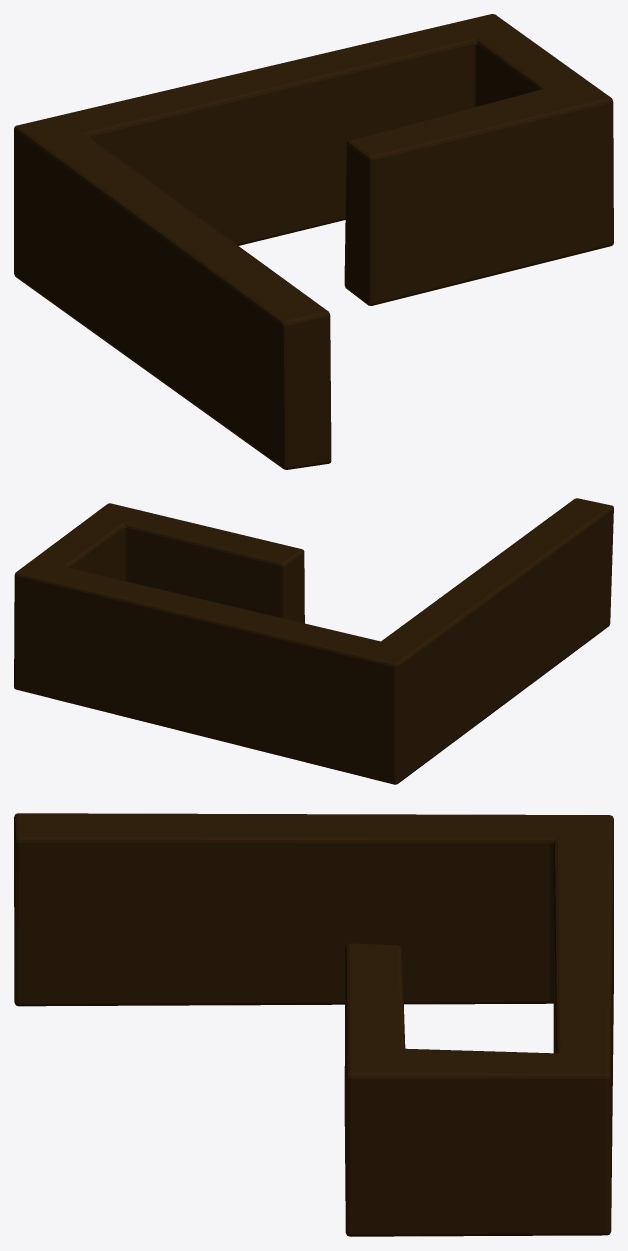
The model's file is Wall piece 16 collider.fbx.
3 renders of one model, top to bottom at view 1: azimuth 30°, elevation 25°; view 2: azimuth 150°, elevation 25°; view 3: azimuth 270°, elevation 25°, orthographic. The views are drawn at different scales.
Visible parts, largest first — view 1: wall piece 16 collider; view 2: wall piece 16 collider; view 3: wall piece 16 collider.
Boxes of the visible parts, x1=… form: wall piece 16 collider: x1=14, y1=14, x2=613, y2=469; wall piece 16 collider: x1=14, y1=498, x2=613, y2=784; wall piece 16 collider: x1=14, y1=813, x2=613, y2=1236.
Bounding box in the file's own units: 1442 × 1407 × 440.
